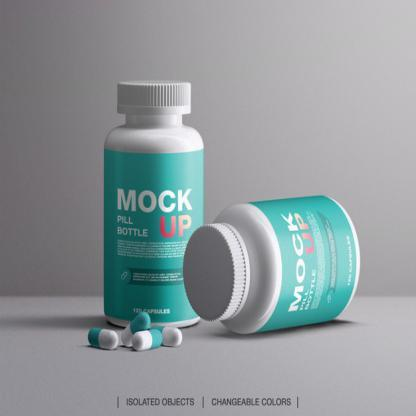jar: (174, 186, 370, 342), (104, 82, 204, 326)
